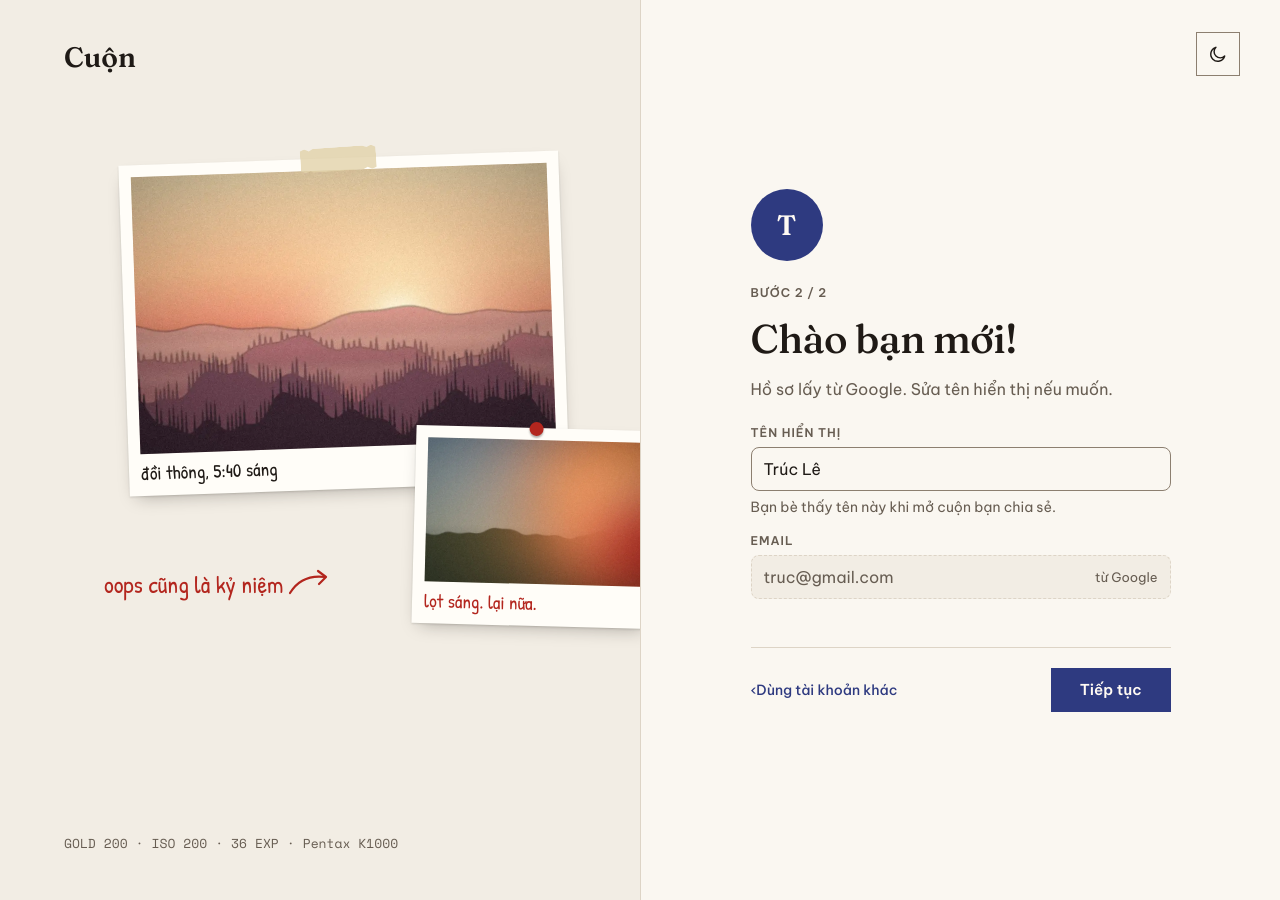
ProfileContent › shows the empty-name error under the field instead of the hint
Step 1. Click the button "Tiếp tục" → (1111, 690), box top-left (1051, 668), bottom-right (1170, 712)
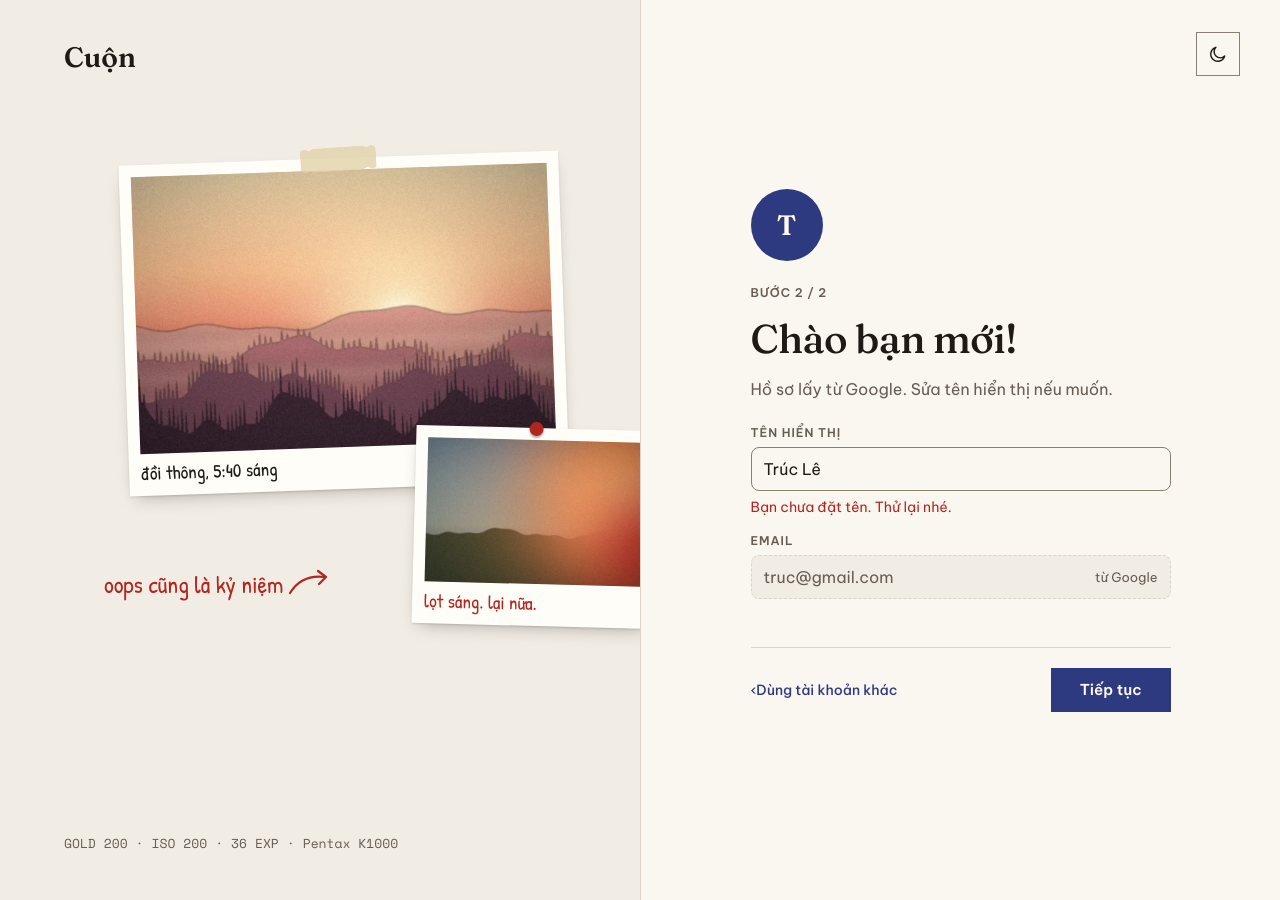
Expected: the text "Bạn chưa đặt tên. Thử lại nhé." is shown, top-left (750, 498), bottom-right (952, 516)
Expected: the text "Bạn bè thấy tên này khi mở cuộn bạn chia sẻ." is gone
